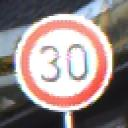speed_limit_30: (14, 13, 114, 116)
